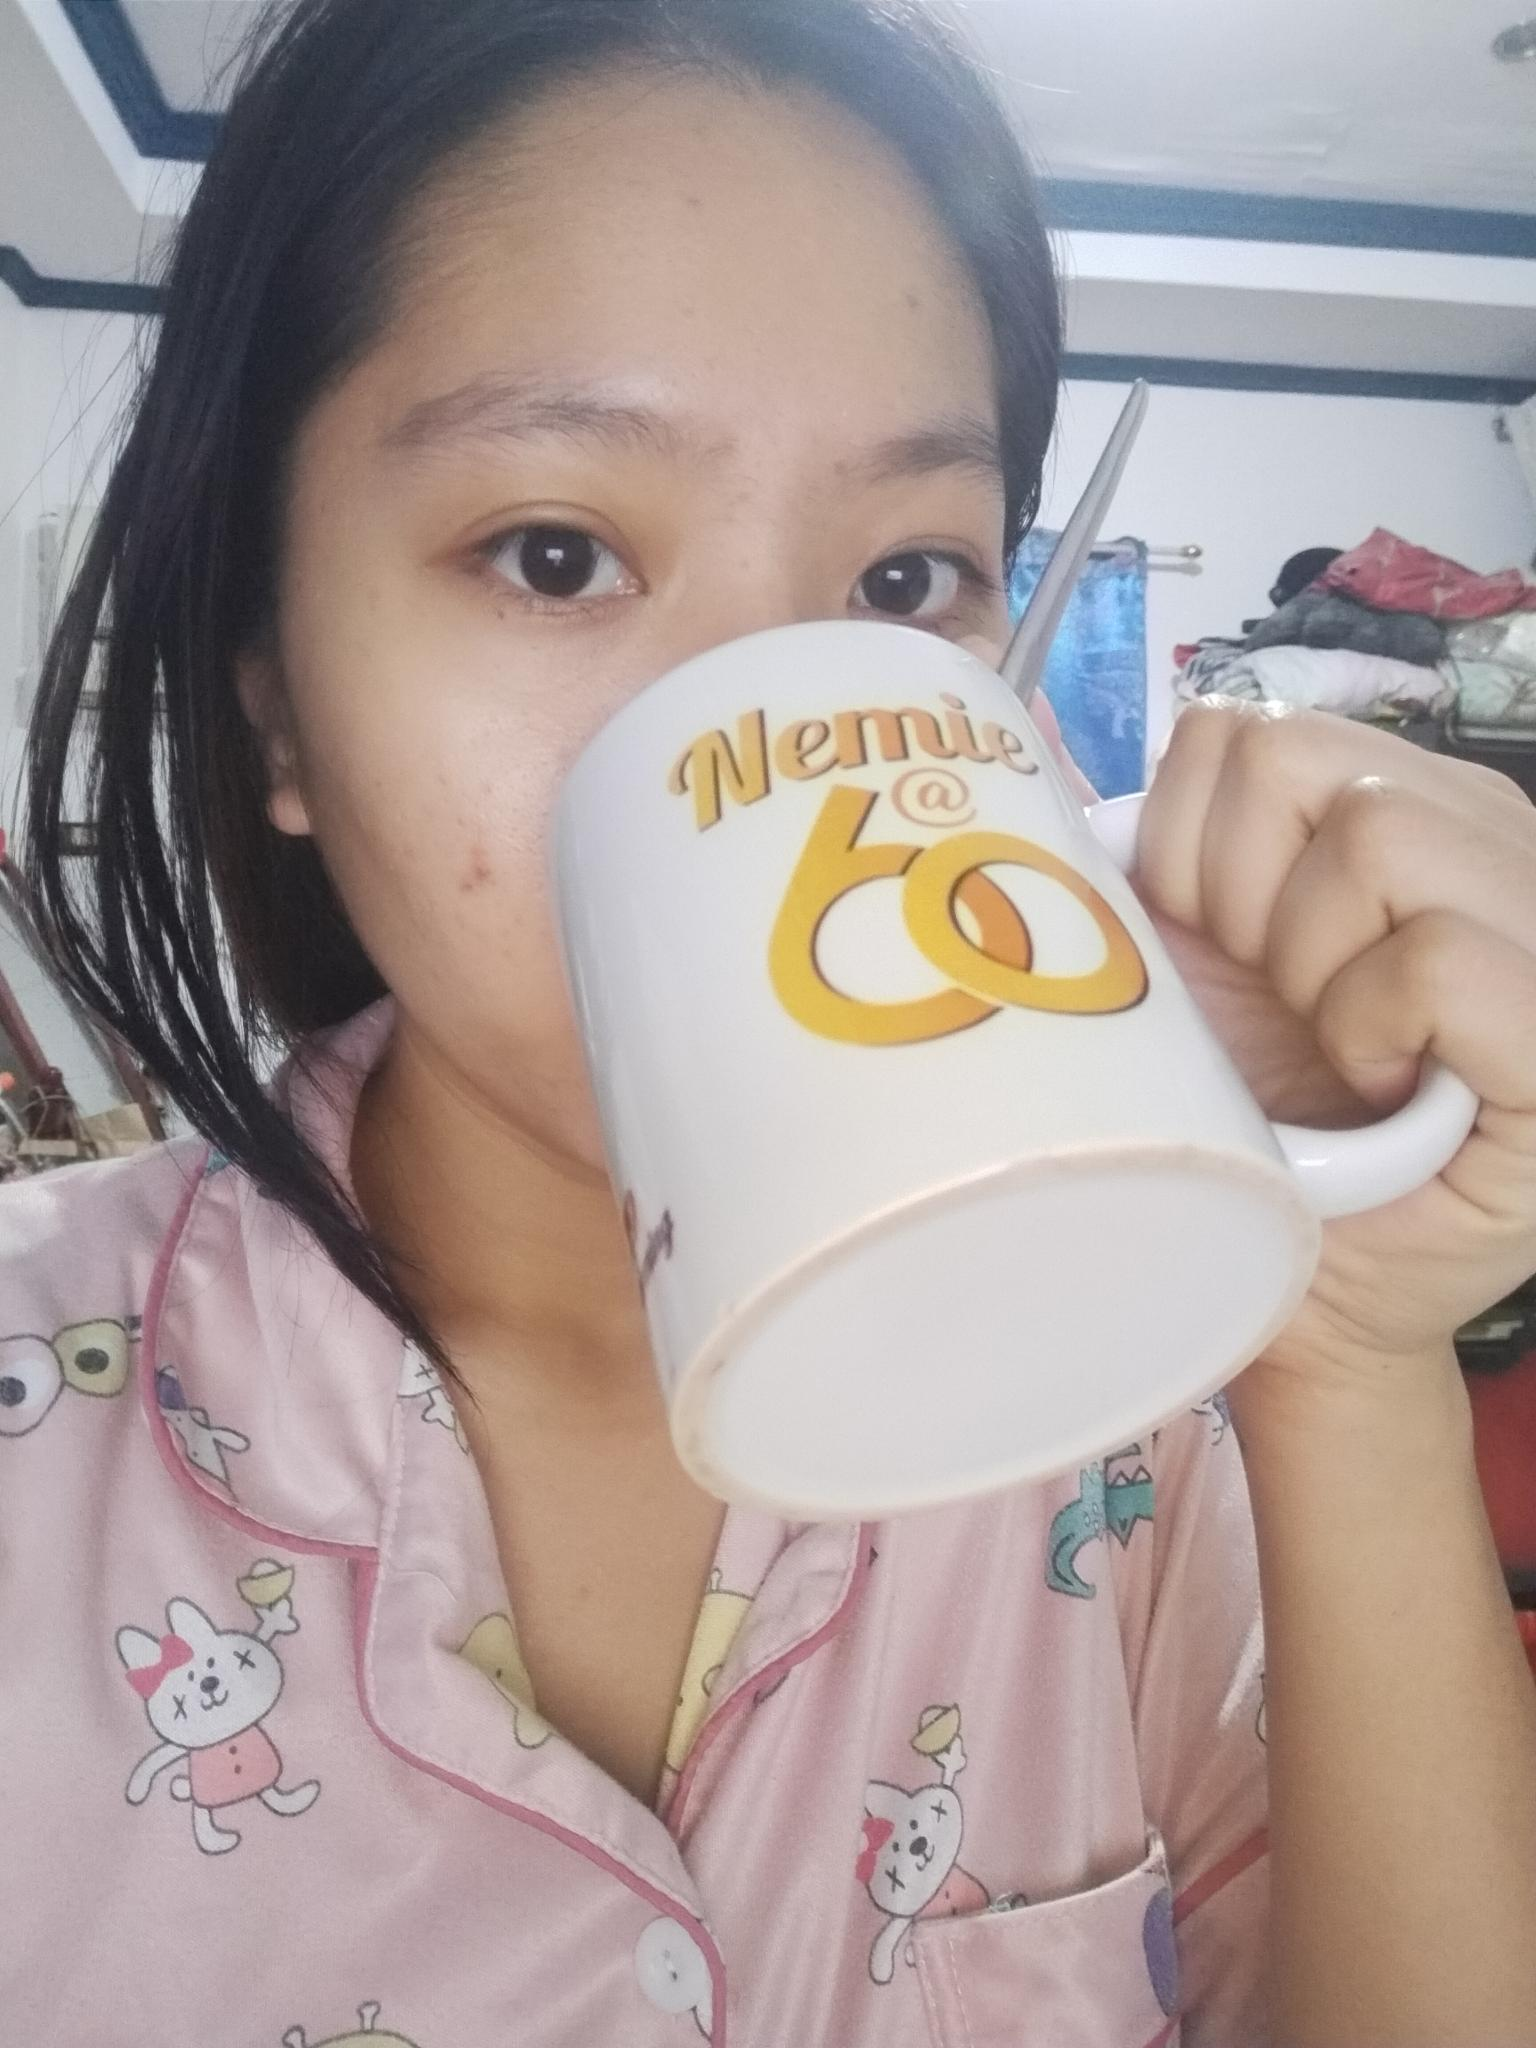Coffee Mug: (550, 621, 1483, 1516)
